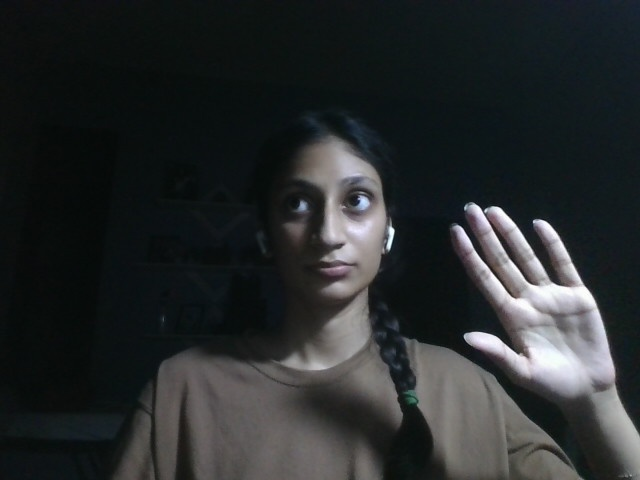hello: (446, 200, 623, 398)
